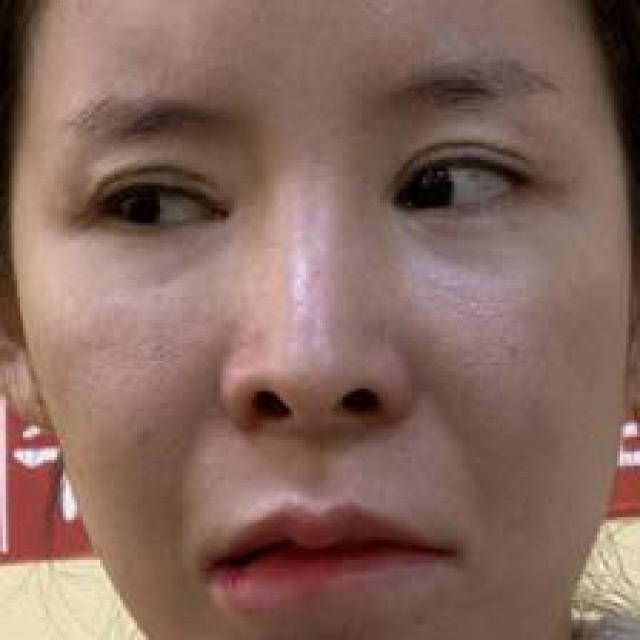fear: (58, 75, 559, 619)
